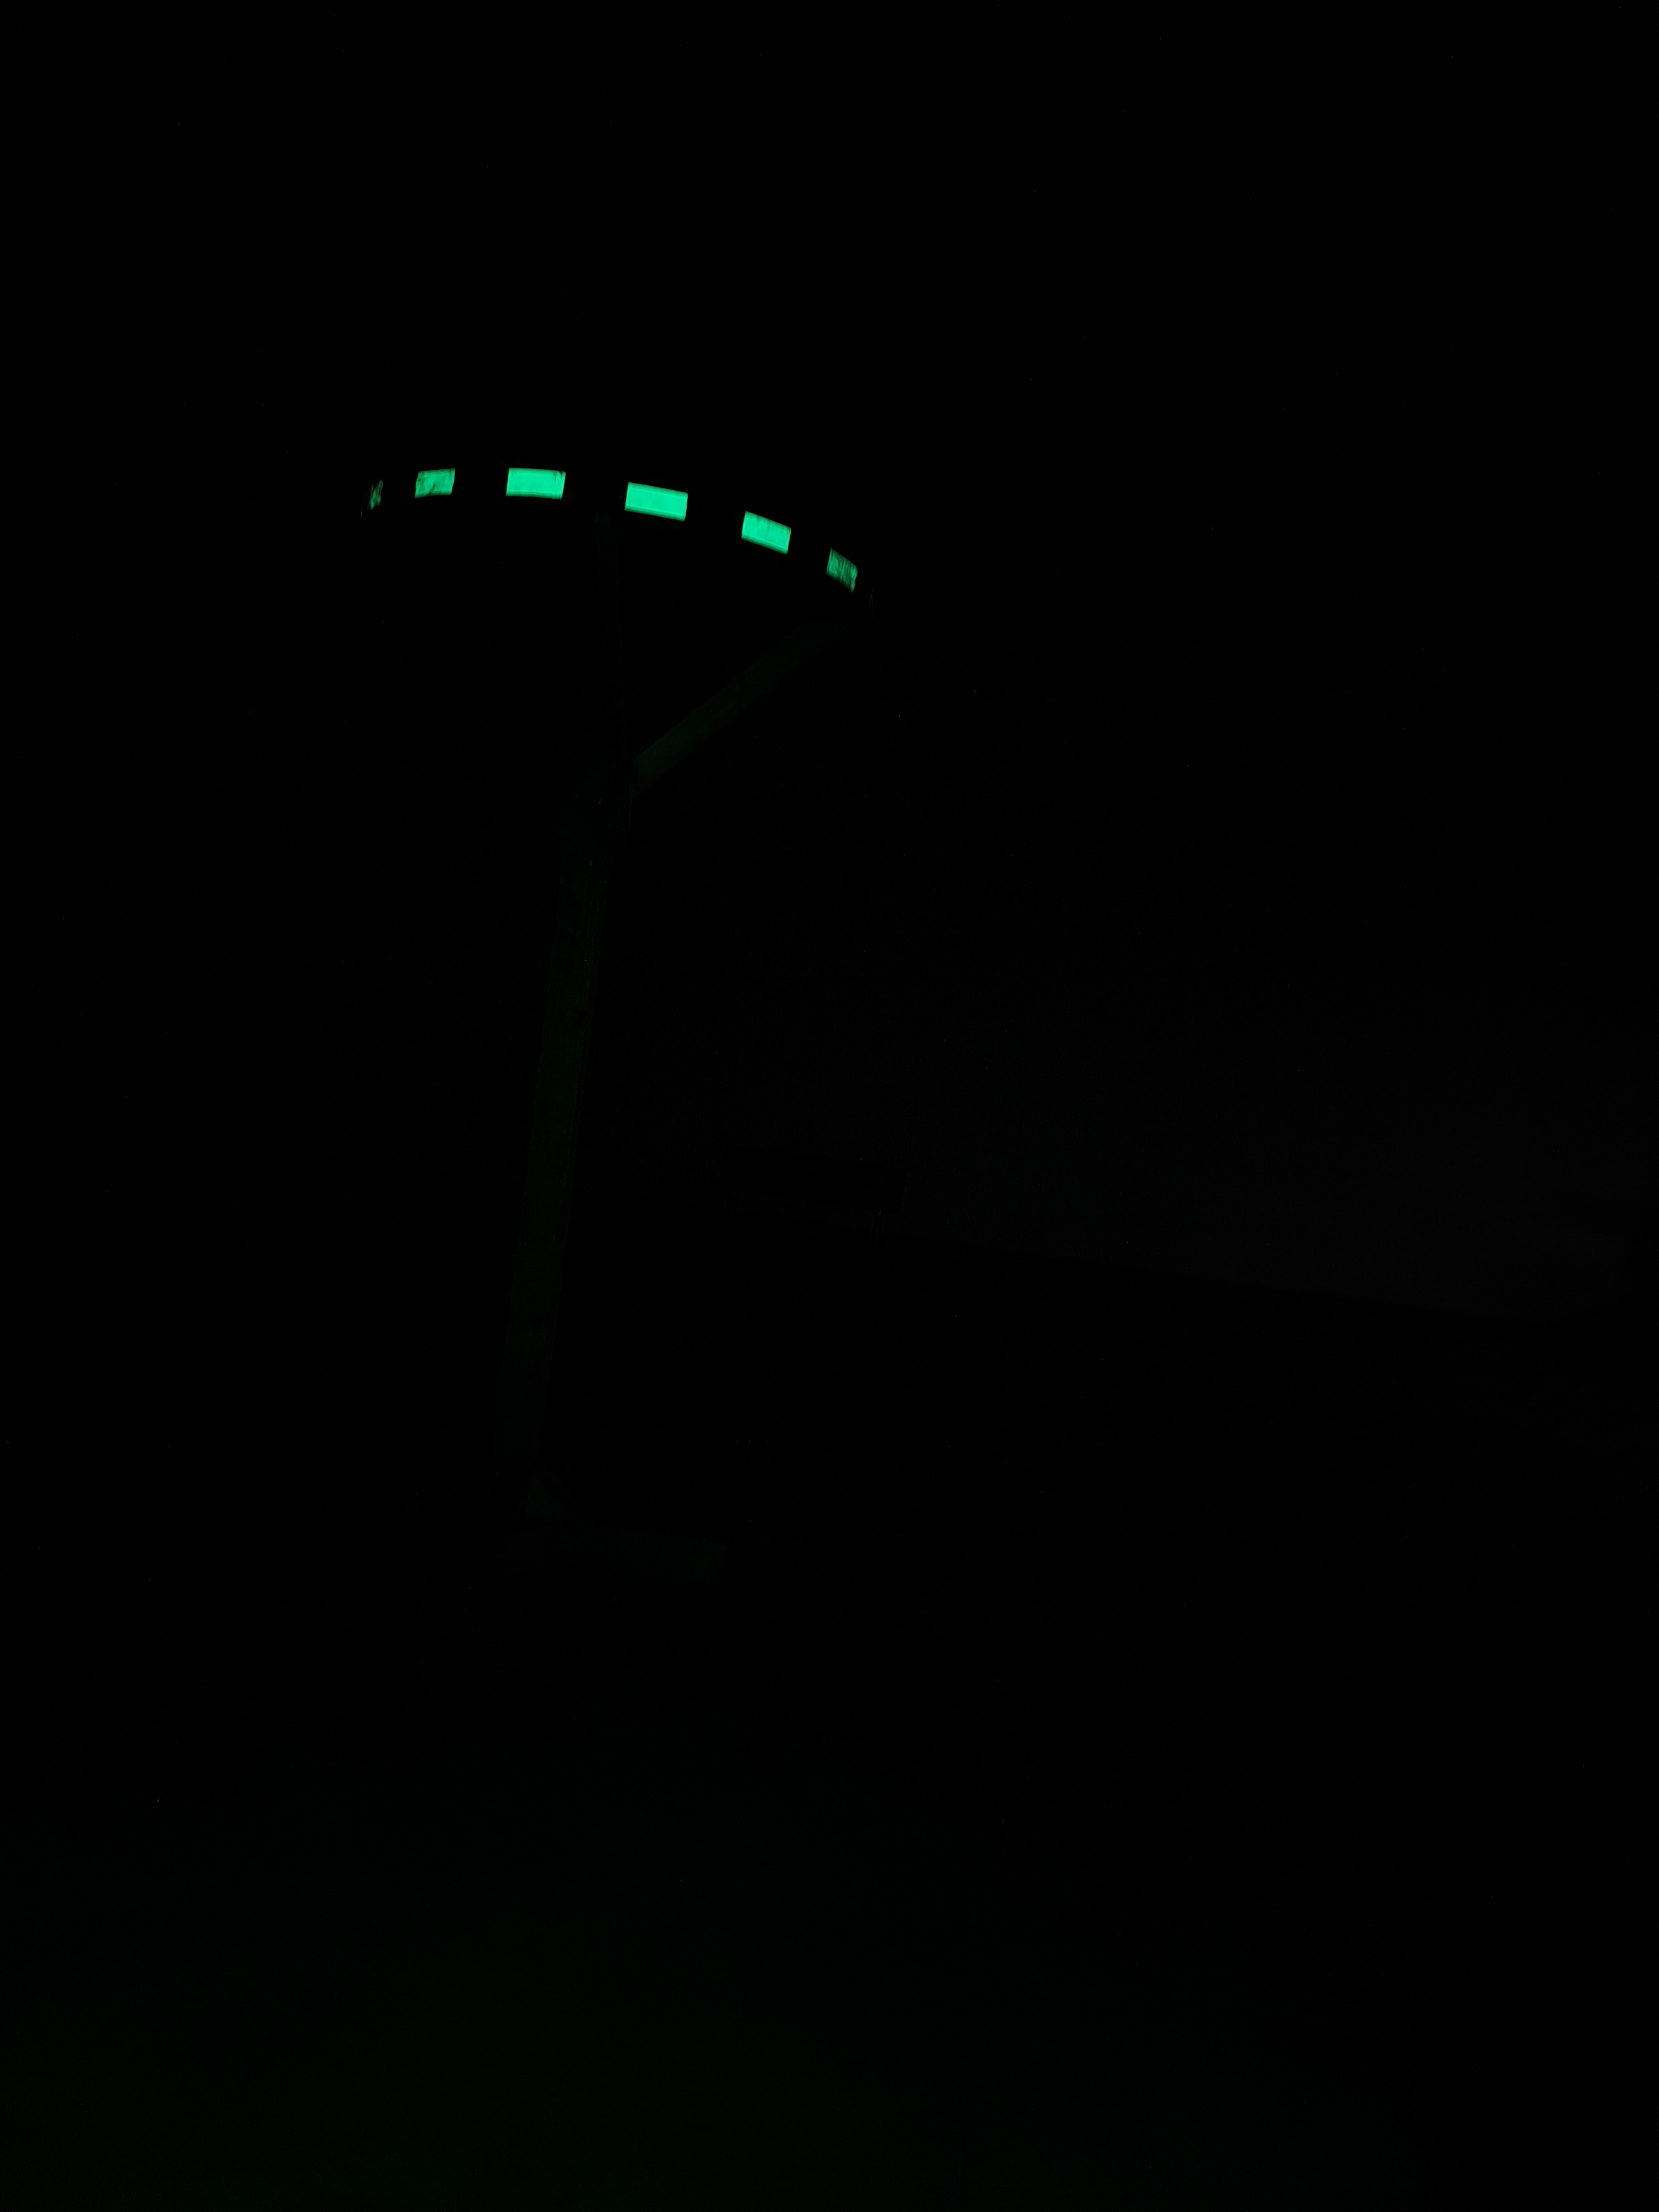hoop: (361, 458, 866, 599)
